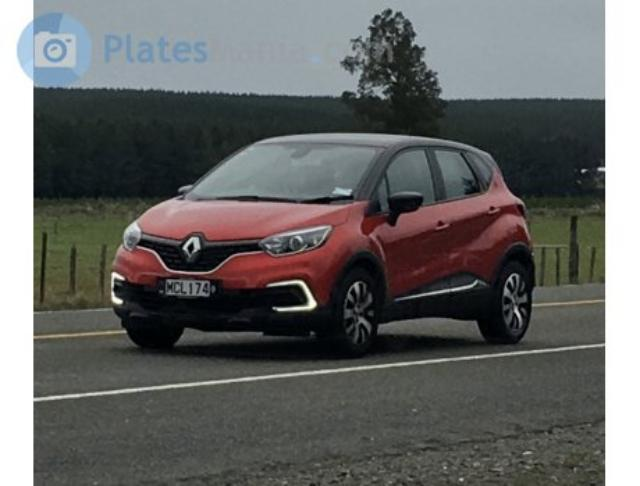Rego: (155, 276, 221, 301)
